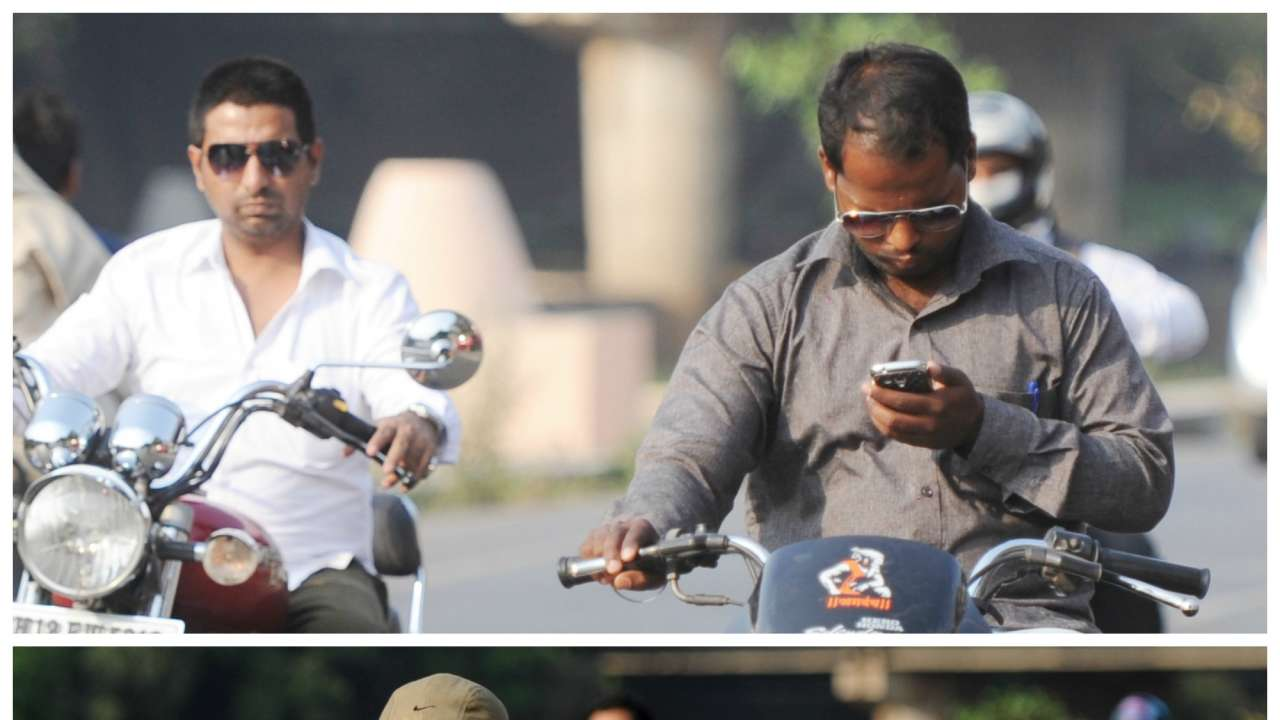su dung dien thoai: (820, 46, 994, 453)
